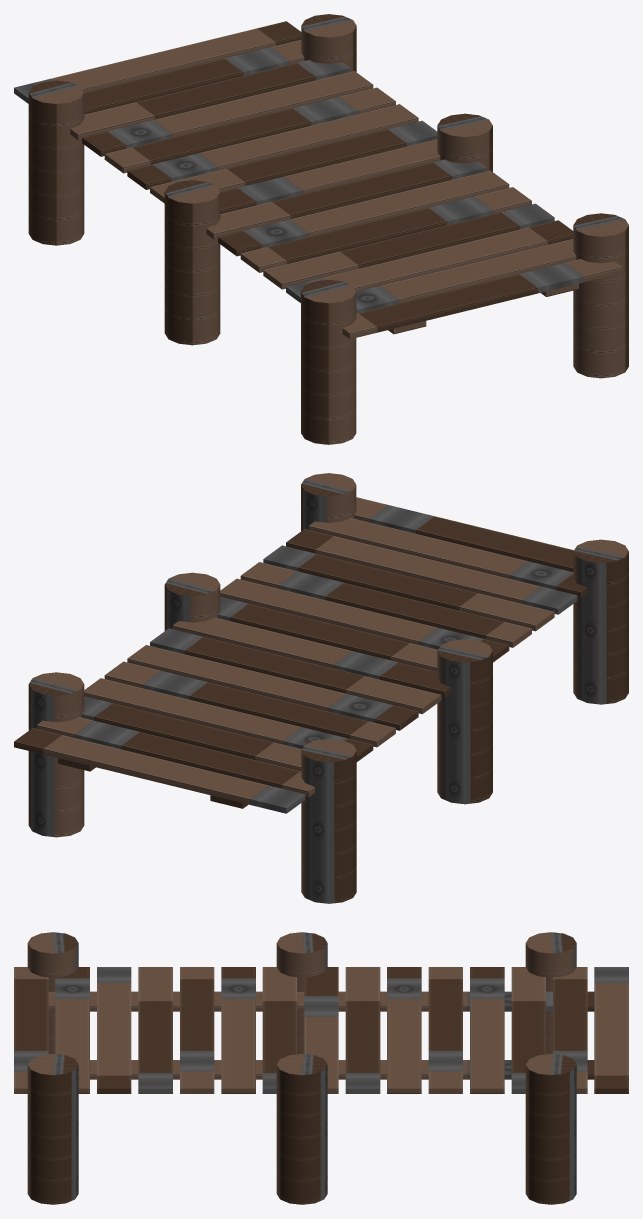
File: Dock.fbx
3 views of the same model, one above another, from view 1: azimuth 30°, elevation 25°; view 2: azimuth 150°, elevation 25°; view 3: azimuth 270°, elevation 25° (orthographic). The views are drawn at different scales.
Visible parts, largest first — view 1: Cube.050; view 2: Cube.050; view 3: Cube.050.
Part boxes in pixels (left/top/right/bottom): Cube.050: left=14, top=14, right=628, bottom=444; Cube.050: left=14, top=473, right=628, bottom=903; Cube.050: left=14, top=932, right=628, bottom=1204.
Size of the model in its own units: 588 by 248 by 1068.
